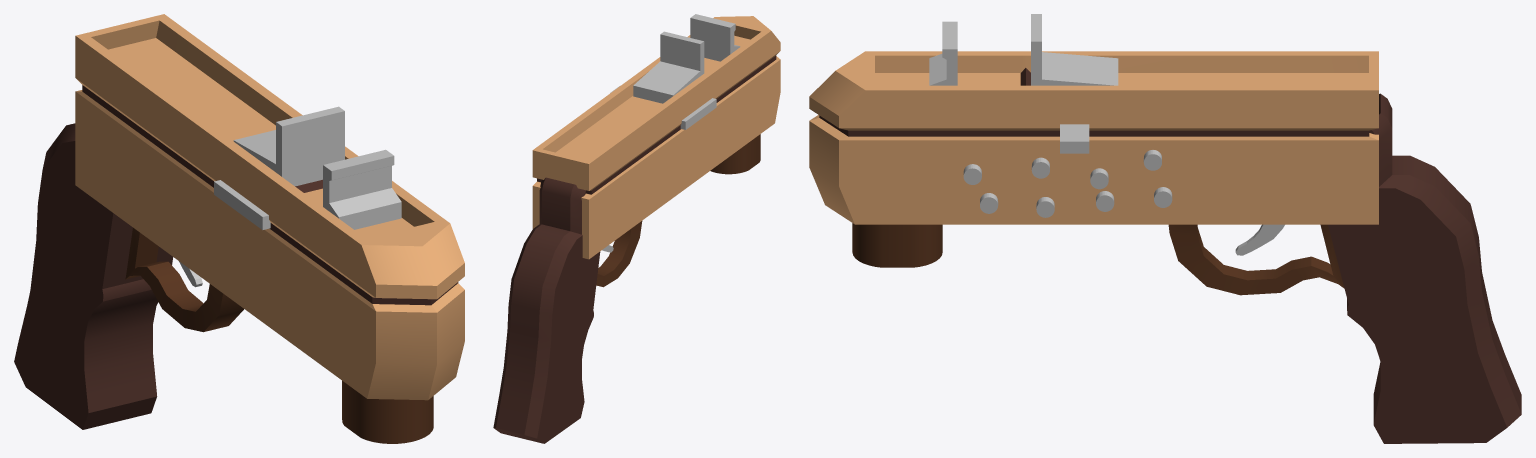
Rendered from Interaction Item.fbx.
The picture shows the model from 3 angles, left to right: view 1: azimuth 30°, elevation 25°; view 2: azimuth 150°, elevation 25°; view 3: azimuth 270°, elevation 25°; orthographic projection. The views are drawn at different scales.
Parts seen in each view (by area): view 1: Main Body, HoldingPart, PullingAnchor, Anchor1, TriggerGuard, Handle; view 2: Main Body, HoldingPart, PullingAnchor, Anchor1, TriggerGuard, Handle; view 3: Main Body, HoldingPart, TriggerGuard, PullingAnchor, Handle, Anchor1, Trigger.
Part boxes in pixels (x1=…): Main Body: x1=75, y1=14, x2=464, y2=400; HoldingPart: x1=14, y1=123, x2=173, y2=429; PullingAnchor: x1=214, y1=106, x2=344, y2=229; Anchor1: x1=323, y1=149, x2=401, y2=229; TriggerGuard: x1=125, y1=227, x2=243, y2=332; Handle: x1=342, y1=380, x2=433, y2=443; Main Body: x1=532, y1=16, x2=780, y2=259; HoldingPart: x1=493, y1=177, x2=600, y2=443; PullingAnchor: x1=610, y1=31, x2=716, y2=129; Anchor1: x1=690, y1=14, x2=740, y2=61; TriggerGuard: x1=596, y1=221, x2=642, y2=287; Handle: x1=710, y1=134, x2=760, y2=174; Main Body: x1=809, y1=51, x2=1378, y2=224; HoldingPart: x1=1328, y1=93, x2=1521, y2=443; TriggerGuard: x1=1168, y1=224, x2=1344, y2=295; PullingAnchor: x1=1031, y1=14, x2=1118, y2=153; Handle: x1=852, y1=223, x2=942, y2=267; Anchor1: x1=929, y1=21, x2=957, y2=85; Trigger: x1=1235, y1=224, x2=1284, y2=255.
Size of the model in its own units: 152 by 480 by 773.
